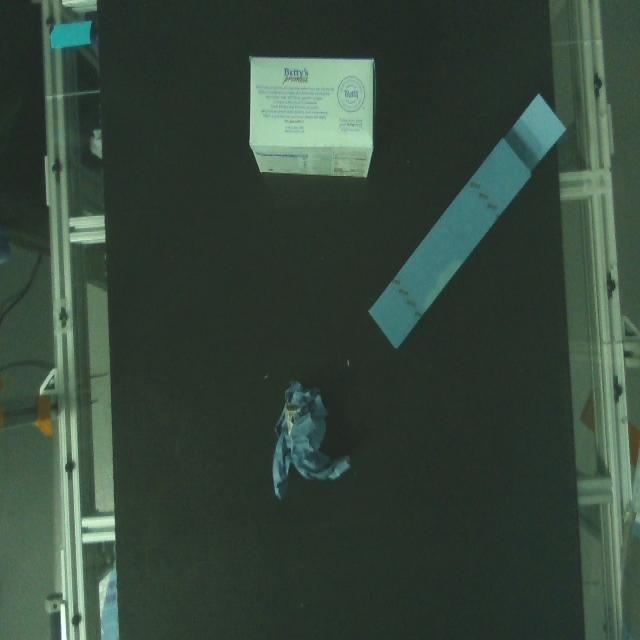paper: (364, 88, 576, 357), (245, 45, 388, 189), (261, 364, 363, 512)
